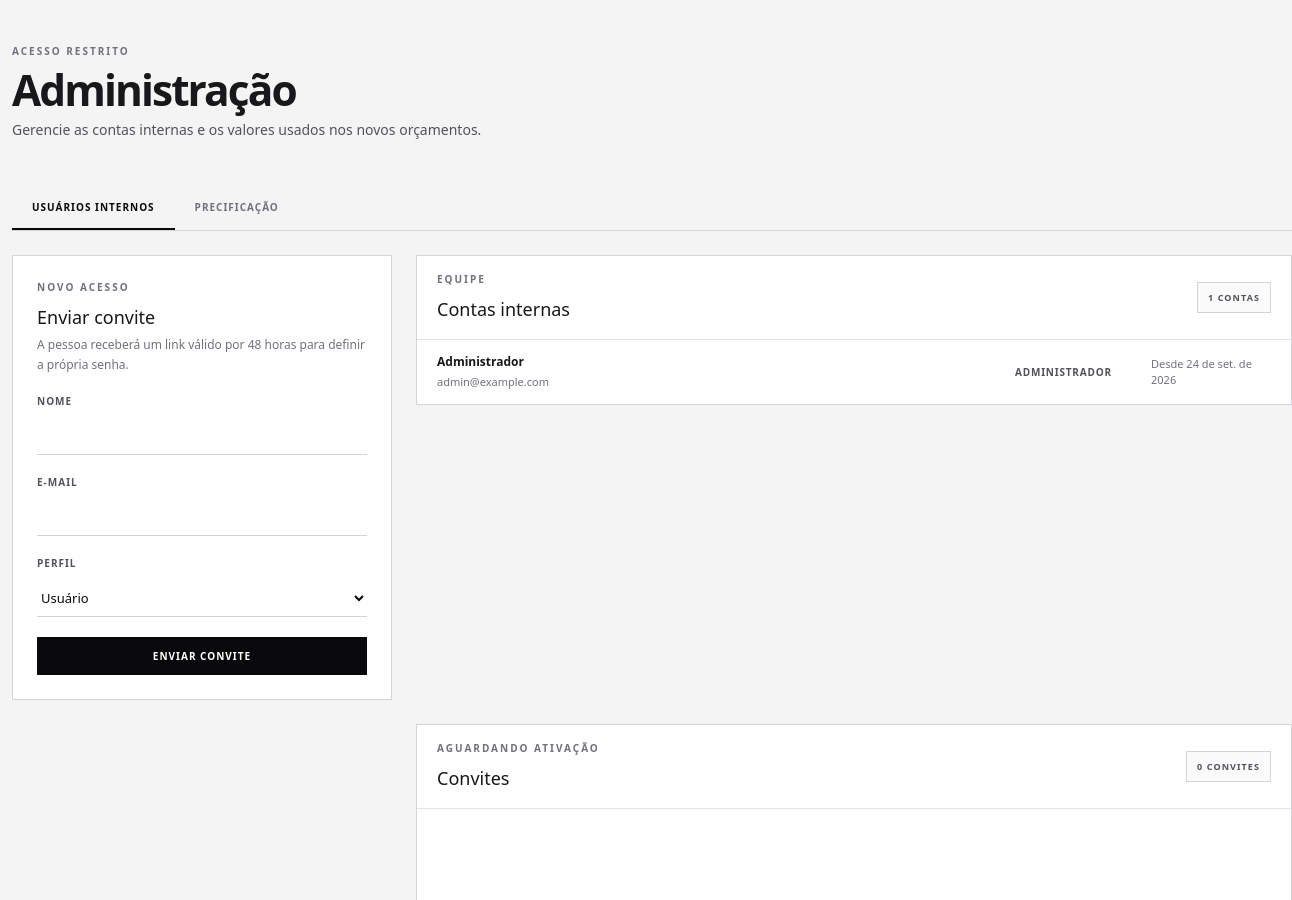
Test case: AdministrationPage › separa a precificação por tipo de aplicação e acentua os nomes exibidos
This screenshot has width=1292, height=900.
Click the tab "Precificação": (237, 208) [175,186,299,230]
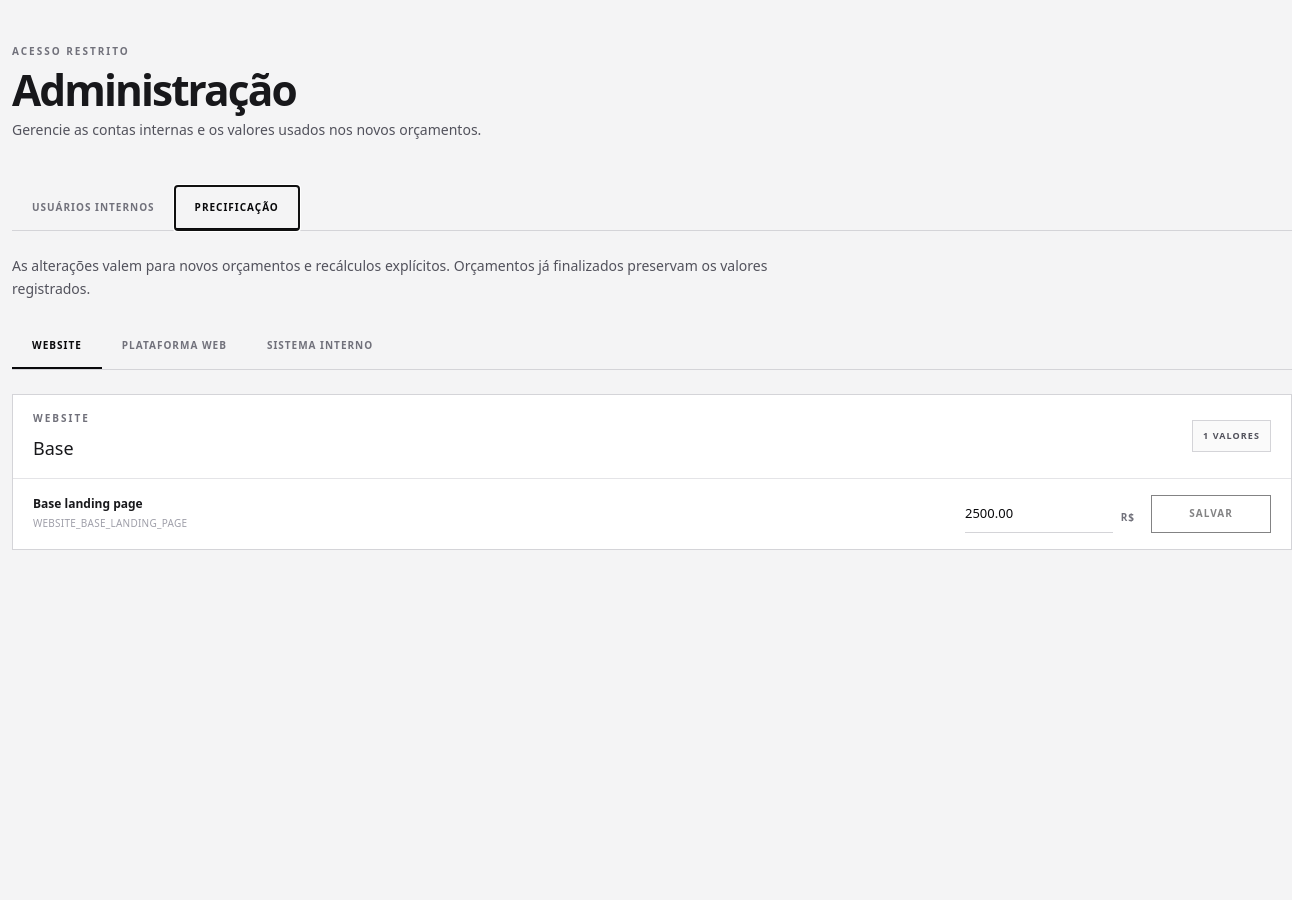
Check: the text "Módulo padrão" is not shown
Check: the text "Base landing page" is shown, box [33,495,143,512]
Click the tab "Sistema Interno": (320, 347) [247,325,393,369]
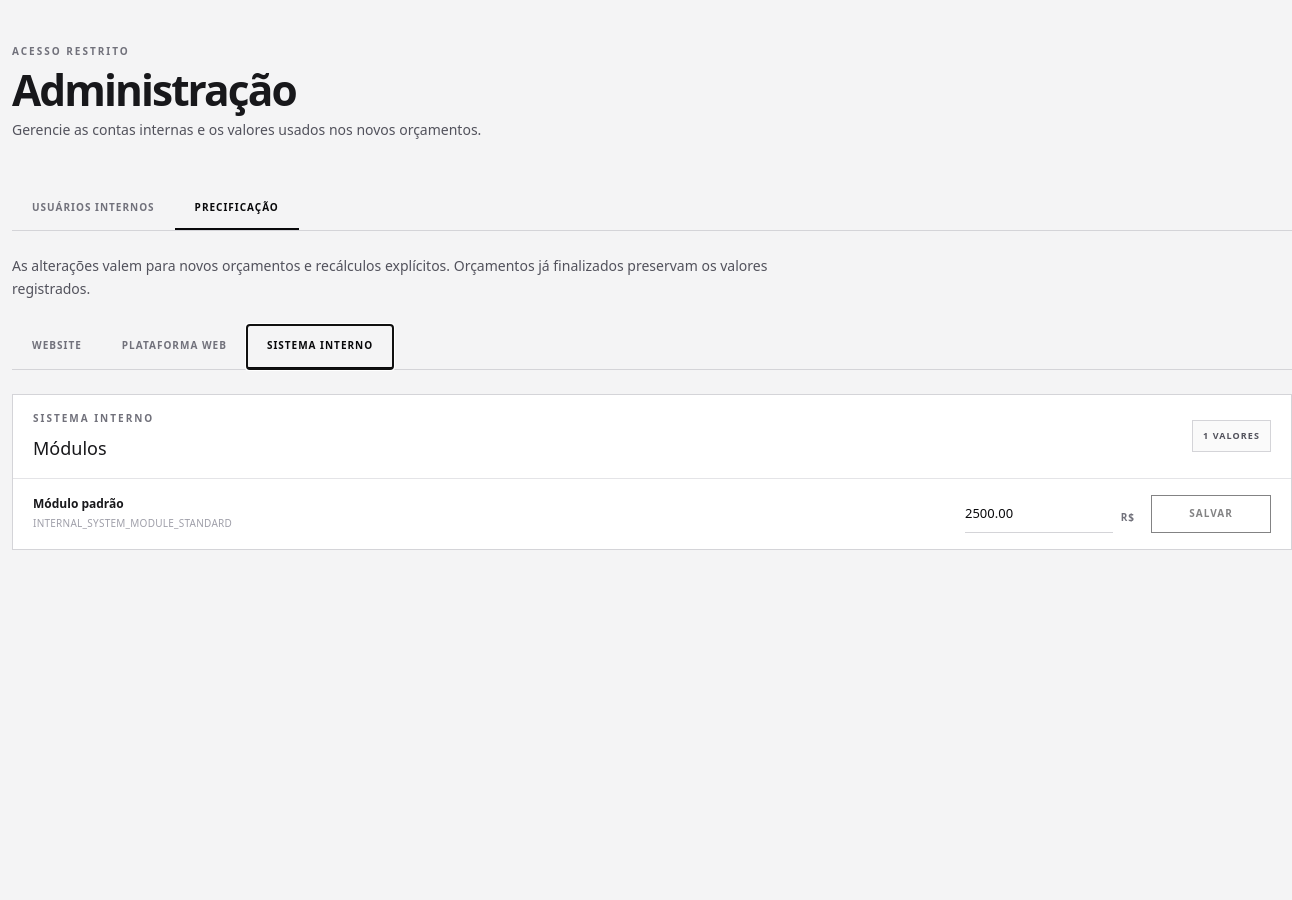
Check: the text "Módulo padrão" is shown, box [33,495,124,512]
Check: the heading "Módulos" is shown, box [33,436,107,460]
Check: the text "Base landing page" is gone
Click the tab "Plataforma Web": (174, 347) [102,325,247,369]
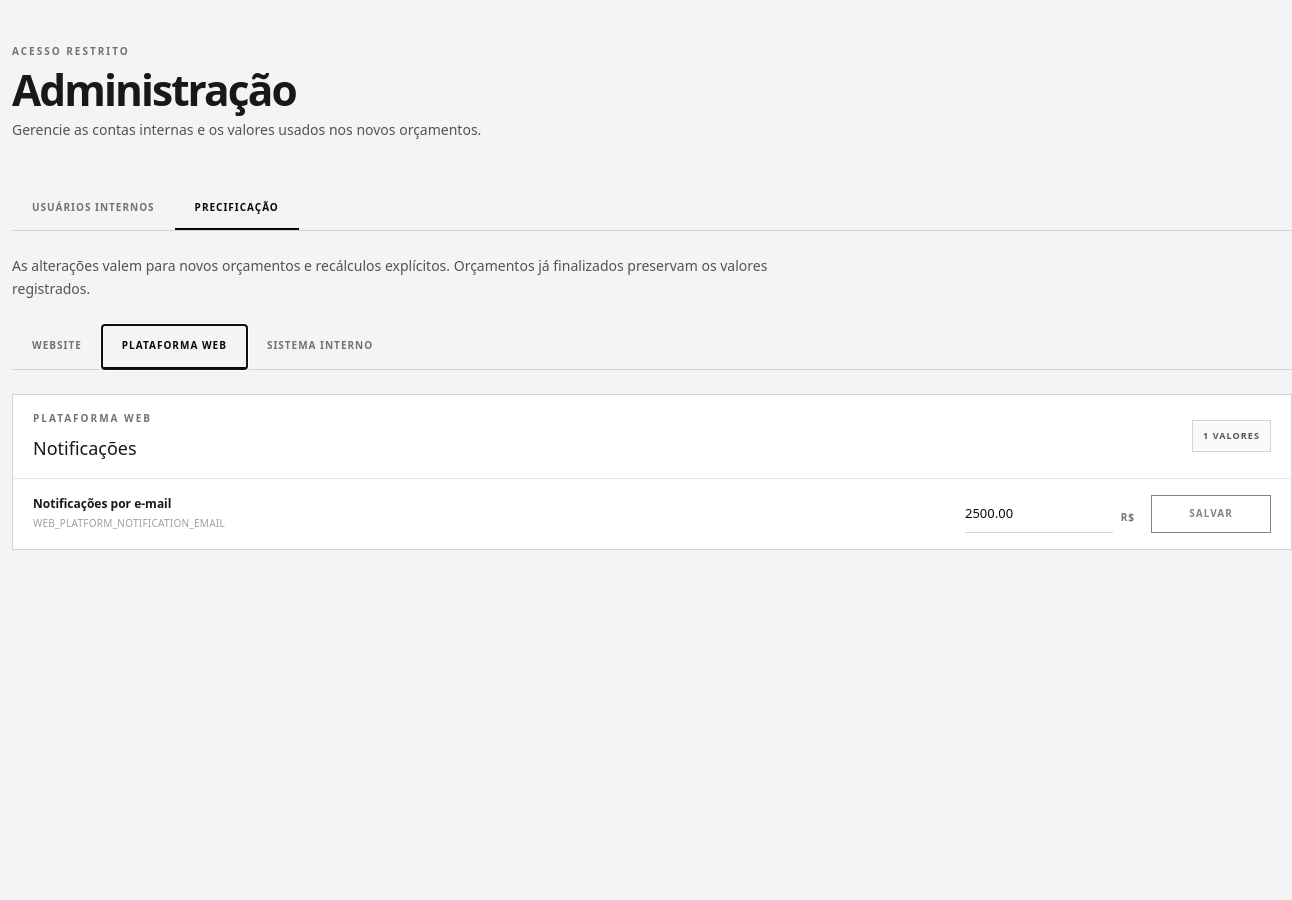
Check: the text "Notificações por e-mail" is shown, box [33,495,172,512]
Check: the heading "Notificações" is shown, box [33,434,152,462]
